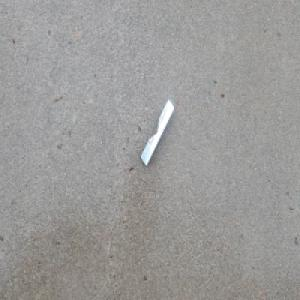ClampPart: (139, 98, 175, 167)
